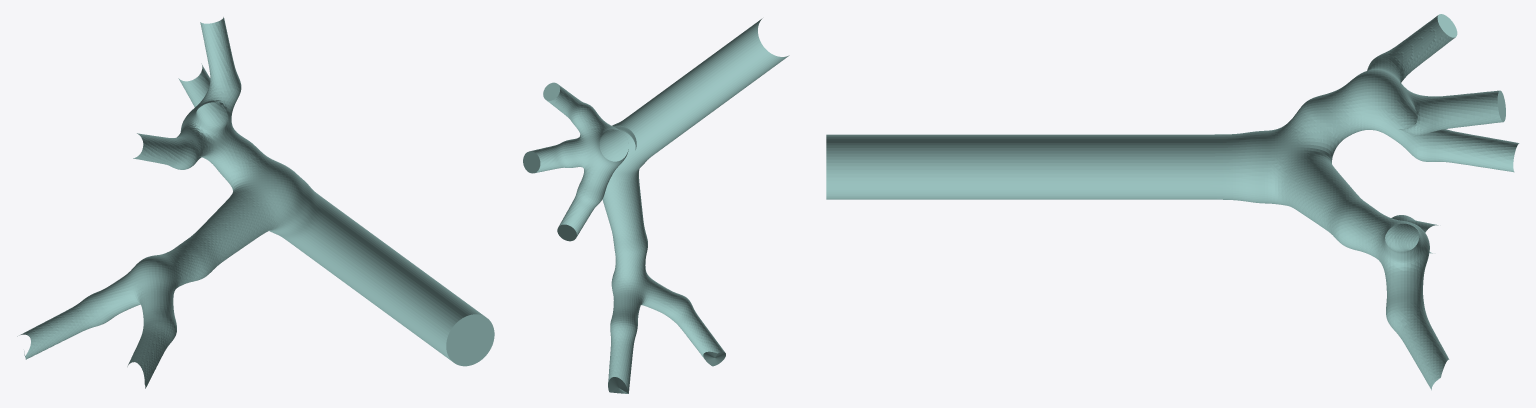
The model's file is airway_baseline.glb.
3 renders of one model, left to right at view 1: azimuth 30°, elevation 25°; view 2: azimuth 150°, elevation 25°; view 3: azimuth 270°, elevation 25°, orthographic. The views are drawn at different scales.
Visible parts, largest first — view 1: airway_closed_validation.stl; view 2: airway_closed_validation.stl; view 3: airway_closed_validation.stl.
Boxes of the visible parts, bbox=[...] form: airway_closed_validation.stl: bbox=[17, 17, 494, 388]; airway_closed_validation.stl: bbox=[523, 18, 789, 393]; airway_closed_validation.stl: bbox=[826, 14, 1519, 390].
Size of the model in its own units: 0.0828 by 0.1275 by 0.1918.
